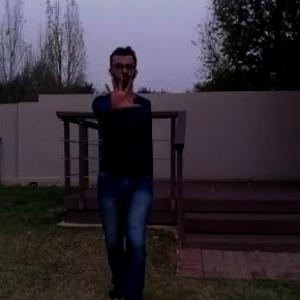follow_hand: (101, 70, 143, 113)
